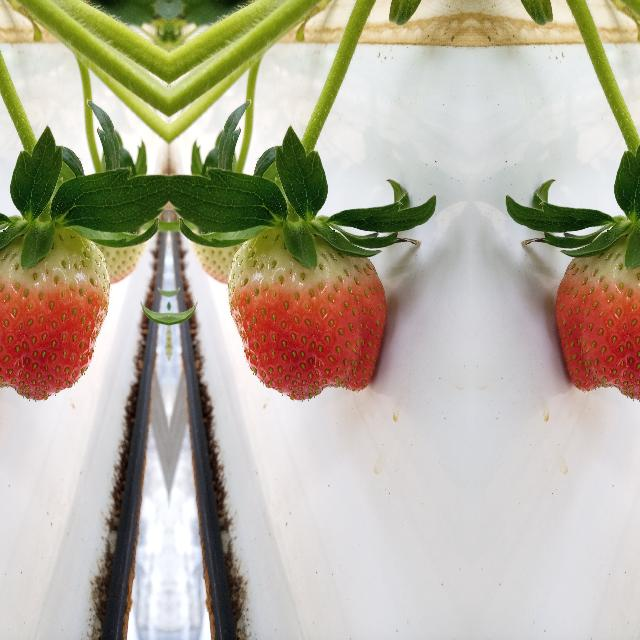Health_100: (226, 225, 387, 402), (0, 224, 110, 401), (554, 224, 640, 401)
